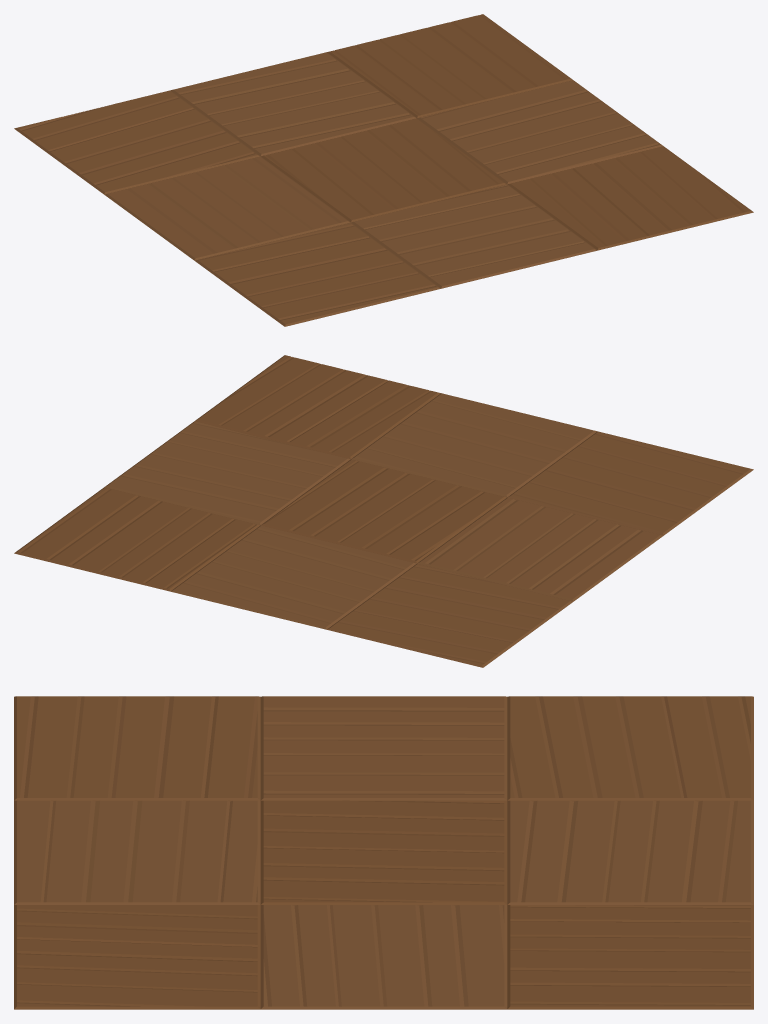
File: Wood_Floor_Module_02_02.glb
3 views of the same model, one above another, from view 1: azimuth 30°, elevation 25°; view 2: azimuth 150°, elevation 25°; view 3: azimuth 270°, elevation 25° (orthographic). The views are drawn at different scales.
Parts seen in each view (by area): view 1: Wood_Floor_Module_02_02; view 2: Wood_Floor_Module_02_02; view 3: Wood_Floor_Module_02_02.
Boxes of the visible parts, x1,y1,x2,y2 form: Wood_Floor_Module_02_02: [14, 14, 753, 326]; Wood_Floor_Module_02_02: [14, 355, 753, 667]; Wood_Floor_Module_02_02: [14, 696, 753, 1009].
Bounding box in the file's own units: 4.74 × 0.012 × 4.74.
